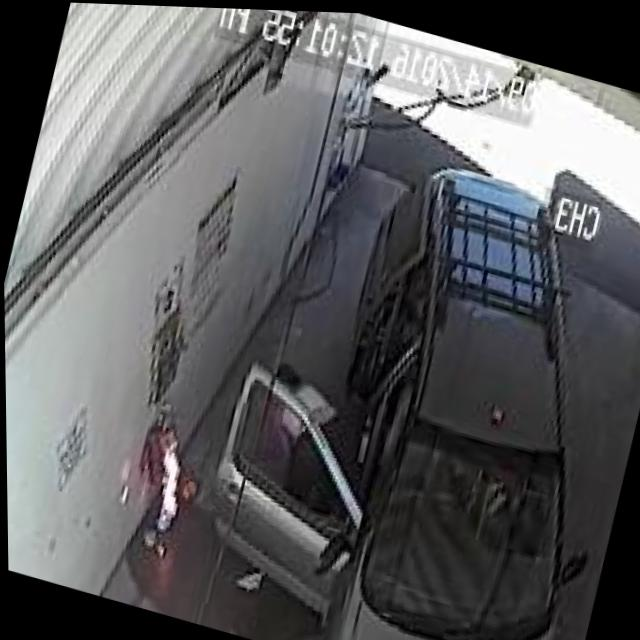fire: (144, 435, 191, 528)
